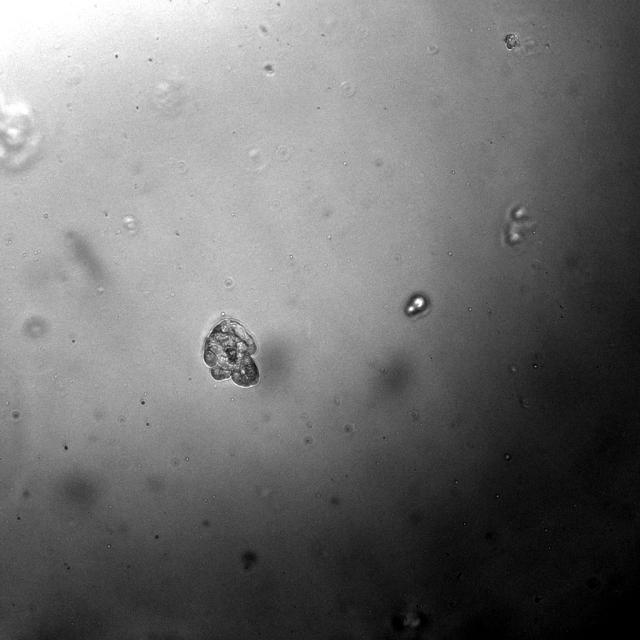organoid: (201, 317, 259, 388), (501, 206, 535, 252), (404, 292, 431, 319)
